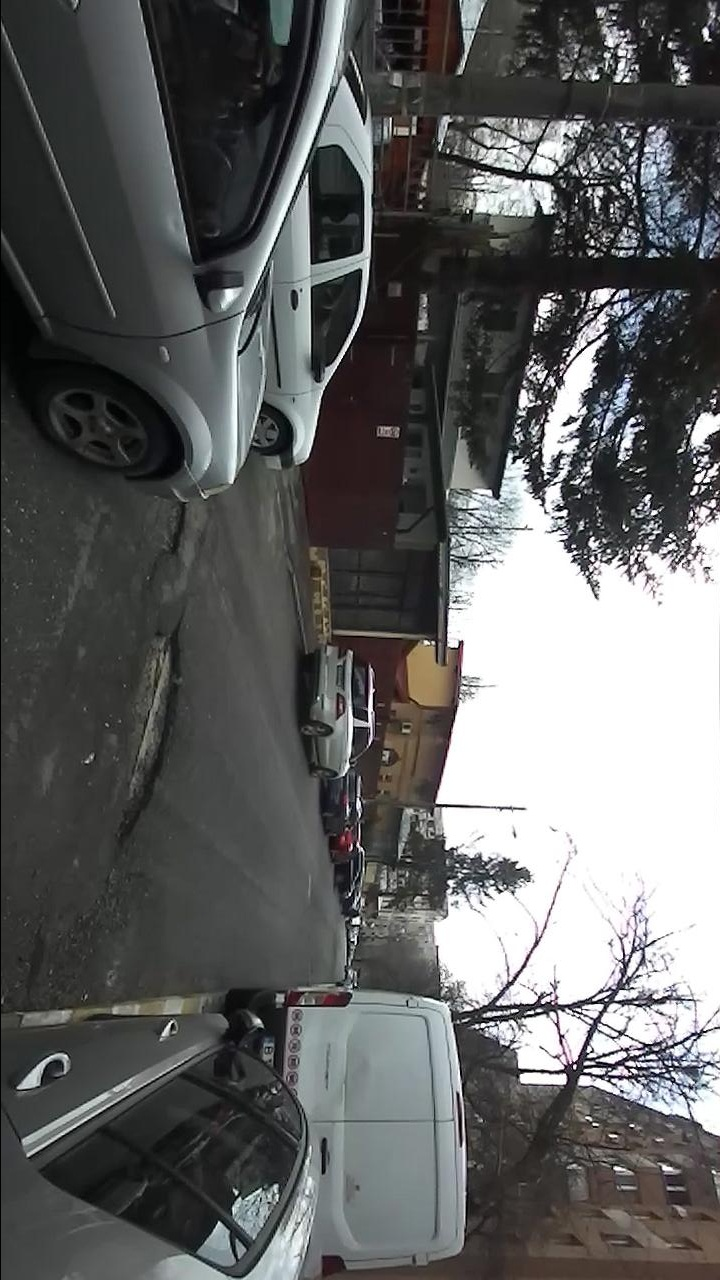pothole: (104, 611, 188, 864), (151, 500, 193, 566)
